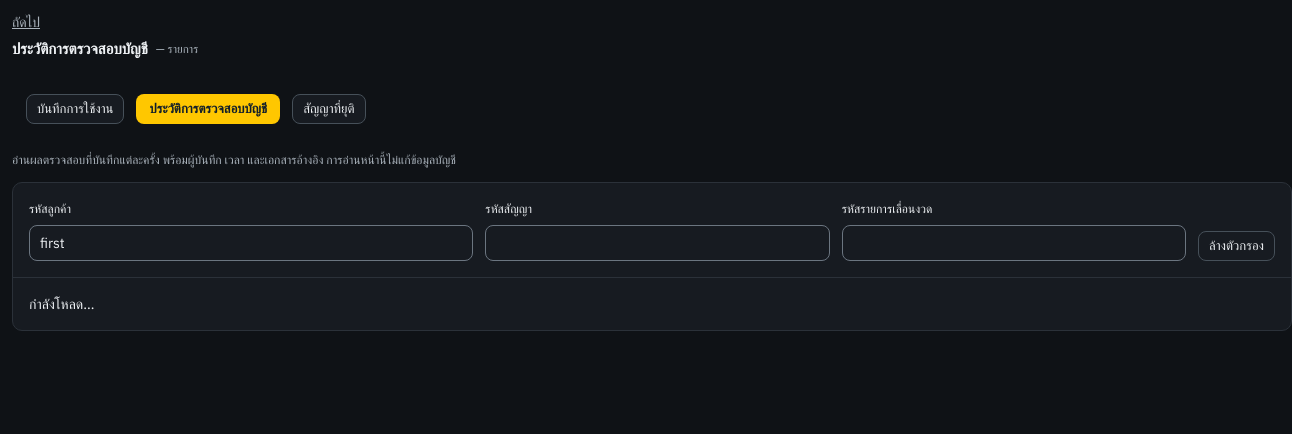
Scenario: cannot display a late response from a previous case
This screenshot has width=1292, height=434.
What coordinates should you click on to do the following:
click the link "ถัดไป"
I would click on:
 (26, 22)
Its box is [12, 13, 40, 31].
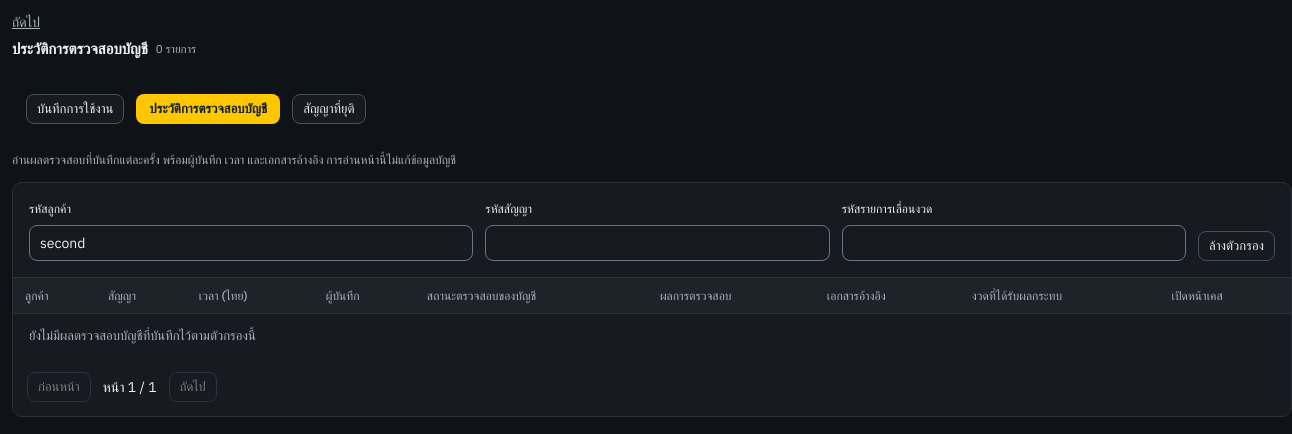
Check: the text "ยังไม่มีผลตรวจสอบบัญชีที่บันทึกไว้ตามตัวกรองนี้" is shown, box [13, 314, 1291, 358]
